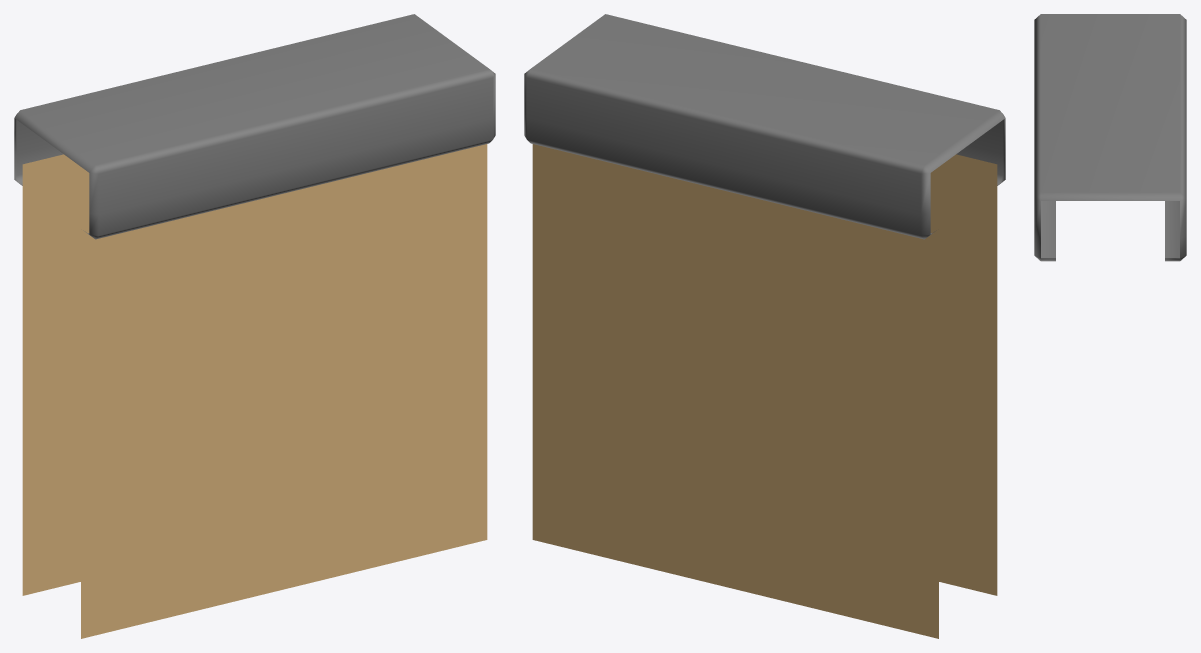
File: SM_WallA_4x4_LOD1.fbx
3 views of the same model, side by side, from view 1: azimuth 30°, elevation 25°; view 2: azimuth 150°, elevation 25°; view 3: azimuth 270°, elevation 25° (orthographic). The views are drawn at different scales.
Visible parts, largest first — view 1: SM_WallA_4x4_LOD1; view 2: SM_WallA_4x4_LOD1; view 3: SM_WallA_4x4_LOD1.
Boxes of the visible parts, bbox=[...] form: SM_WallA_4x4_LOD1: bbox=[14, 14, 495, 638]; SM_WallA_4x4_LOD1: bbox=[524, 14, 1005, 638]; SM_WallA_4x4_LOD1: bbox=[1034, 14, 1186, 261].
Bounding box in the file's own units: 4 × 4.5 × 1.4.
